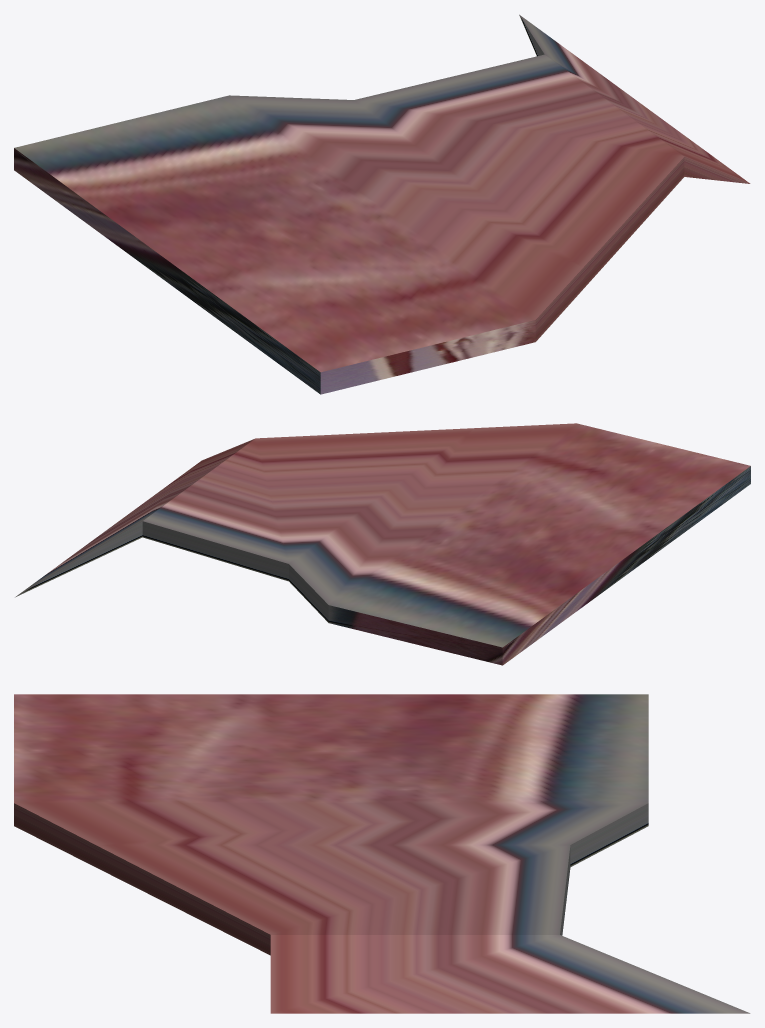
The picture shows the model from 3 angles, top to bottom: view 1: azimuth 30°, elevation 25°; view 2: azimuth 150°, elevation 25°; view 3: azimuth 270°, elevation 25°; orthographic projection. The views are drawn at different scales.
Visible parts, largest first — view 1: Wing-3_Cube.009; view 2: Wing-3_Cube.009; view 3: Wing-3_Cube.009.
Boxes of the visible parts, x1,y1,x2,y2 form: Wing-3_Cube.009: (14, 14, 750, 394); Wing-3_Cube.009: (15, 423, 750, 665); Wing-3_Cube.009: (14, 694, 750, 1013).
Size of the model in its own units: 5.76 by 0.4323 by 6.4.
